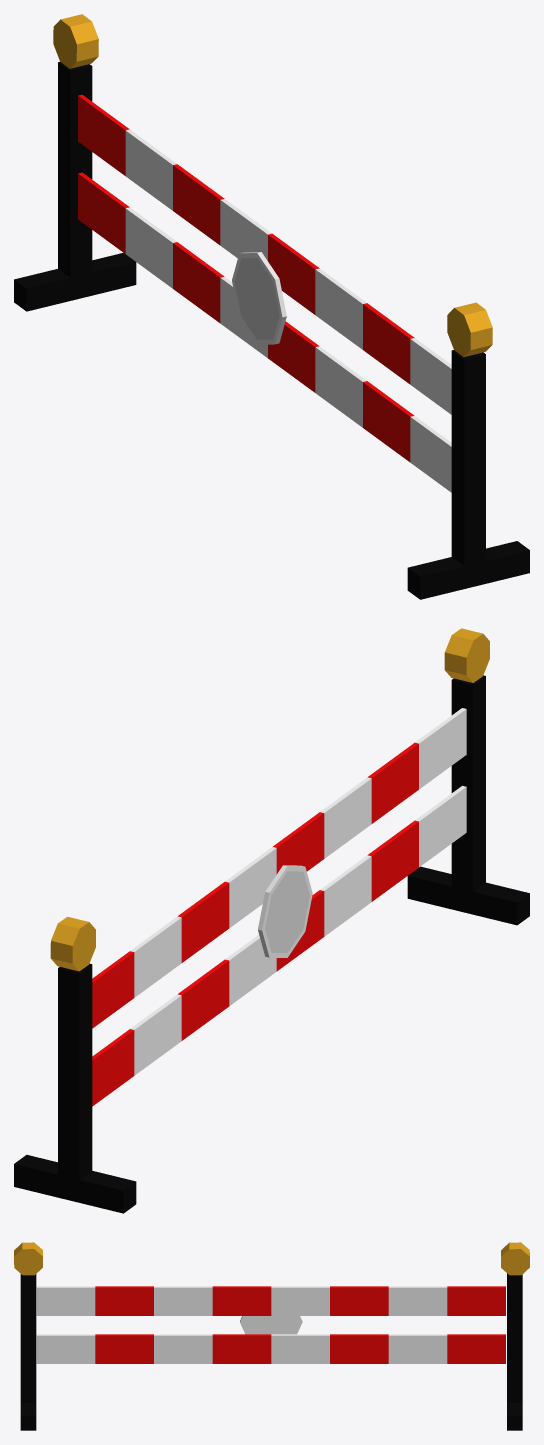
The model's file is valla trafico.glb.
3 renders of one model, top to bottom at view 1: azimuth 30°, elevation 25°; view 2: azimuth 150°, elevation 25°; view 3: azimuth 270°, elevation 25°, orthographic. The views are drawn at different scales.
Visible parts, largest first — view 1: Pata Left, Pata Right, travesa up. 2, travesa up, travesa down 2, travesa down, STOP, Luz, Luz.001; view 2: Pata Right, Pata Left, travesa up, travesa up. 2, travesa down, travesa down 2, STOP, Luz.001, Luz; view 3: travesa up, travesa down 2, travesa up. 2, travesa down, Pata Left, Pata Right, STOP, Luz, Luz.001.
Boxes of the visible parts, <box> form: Pata Left: <box>407,350,529,599</box>; Pata Right: <box>14,62,136,311</box>; travesa up. 2: <box>78,94,271,260</box>; travesa up: <box>268,233,451,414</box>; travesa down 2: <box>268,321,451,492</box>; travesa down: <box>78,172,267,357</box>; STOP: <box>232,252,286,344</box>; Luz: <box>53,14,98,68</box>; Luz.001: <box>447,302,492,357</box>; Pata Right: <box>14,963,136,1213</box>; Pata Left: <box>407,675,529,925</box>; travesa up: <box>272,708,466,874</box>; travesa up. 2: <box>92,847,276,1028</box>; travesa down: <box>92,935,276,1106</box>; travesa down 2: <box>276,785,466,971</box>; STOP: <box>258,865,312,957</box>; Luz.001: <box>444,628,489,682</box>; Luz: <box>50,916,95,971</box>; travesa up: <box>36,1286,271,1315</box>; travesa down 2: <box>36,1334,271,1363</box>; travesa up. 2: <box>271,1286,505,1315</box>; travesa down: <box>271,1334,505,1363</box>; Pata Left: <box>20,1274,36,1430</box>; Pata Right: <box>507,1273,522,1430</box>; STOP: <box>240,1316,302,1334</box>; Luz: <box>501,1242,529,1275</box>; Luz.001: <box>14,1242,42,1275</box>.
Bounding box in the file's own units: 0.5 × 1.19 × 3.3.
